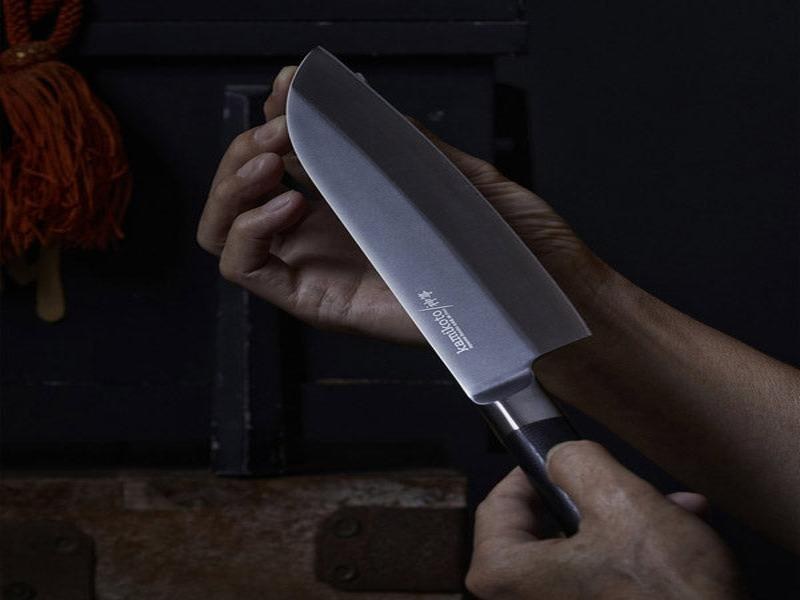KNIFE: (277, 40, 594, 544)
